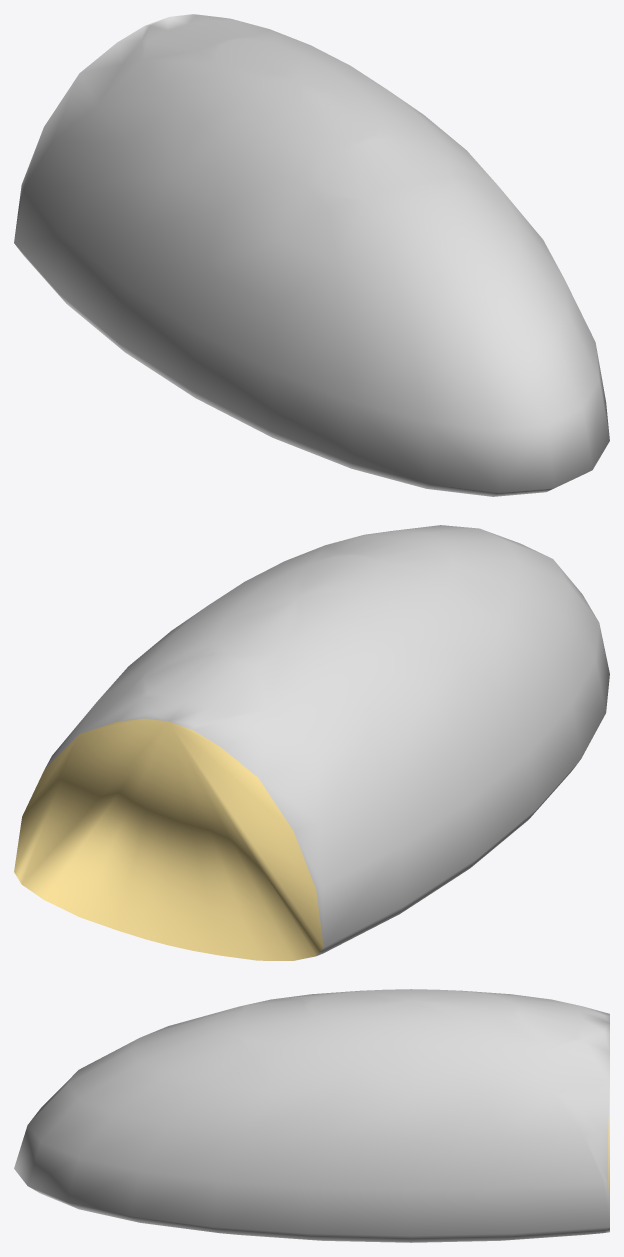
The model's file is Bread_3.fbx.
The picture shows the model from 3 angles, top to bottom: view 1: azimuth 30°, elevation 25°; view 2: azimuth 150°, elevation 25°; view 3: azimuth 270°, elevation 25°; orthographic projection. The views are drawn at different scales.
Visible parts, largest first — view 1: Model; view 2: Model; view 3: Model.
Part boxes in pixels (x1,y1,x2,y2): Model: (14,14,609,496); Model: (14,525,609,960); Model: (14,989,609,1242).
Bounding box in the file's own units: 20.07 × 13.87 × 37.54.
